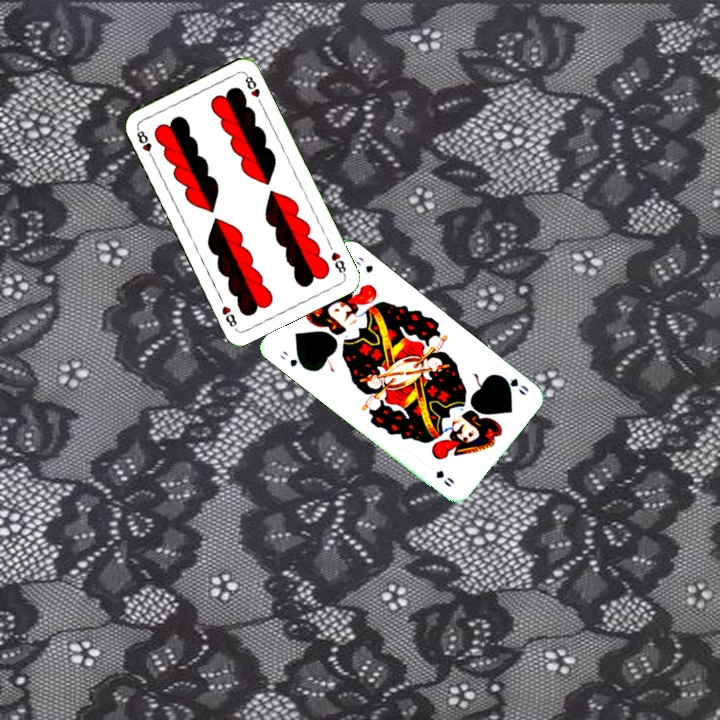GO: (494, 370, 531, 398), (276, 346, 309, 372)
H8: (133, 124, 157, 162), (327, 248, 349, 278)
